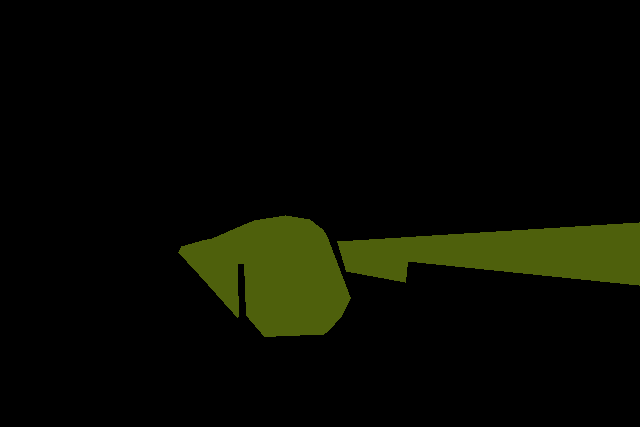Train: (178, 215, 350, 337), (337, 222, 639, 286)
